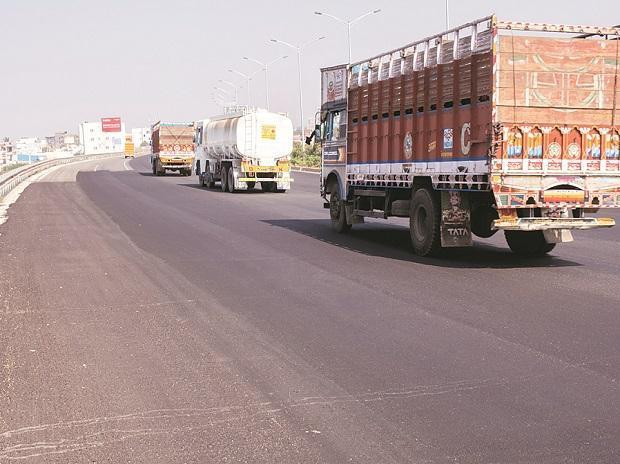car: (315, 15, 620, 258), (189, 110, 301, 198), (147, 119, 199, 178)
